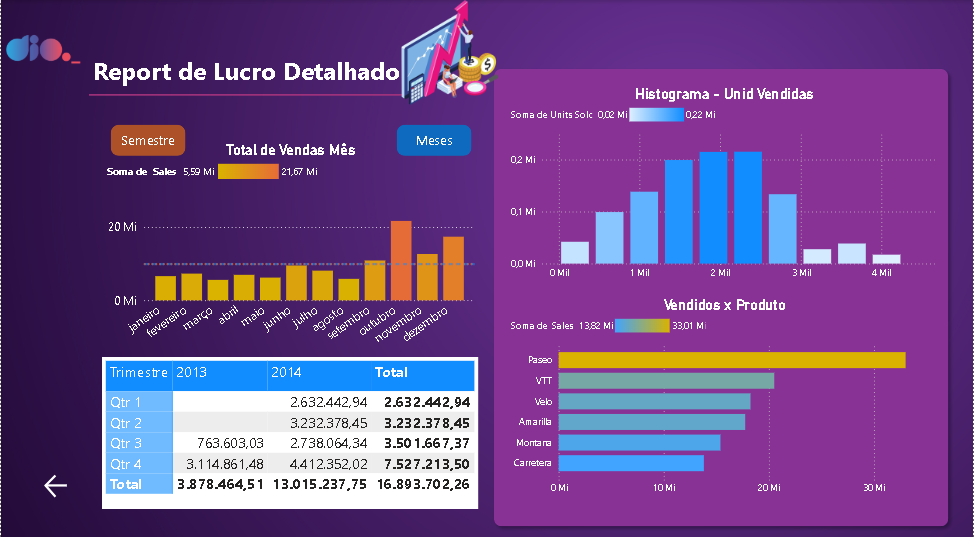

This screenshot's page, from the dashboard's own definition file:
{"tool":"powerbi","page":{"name":"Detalhes","canvas":[1280,720],"ordinal":2},"visuals":[{"type":"image","box":[0,0,1280,720.2],"z":0},{"type":"image","box":[6,2,98,124],"z":1000},{"type":"actionButton","title":"Botão - Map","box":[134.3,154.3,118.6,51.4],"z":2000},{"type":"textbox","box":[116,64,468,62],"z":3000},{"type":"shape","box":[640,82,616,620],"z":4000},{"type":"shape","box":[116,112,444,26],"z":5000},{"type":"clusteredColumnChart","title":"Histograma - Unid Vendidas","fields":{"Y":["Sum(financials.Units Sold)"],"Category":["financials.Buckets"]},"box":[666,112,572,264],"z":6000},{"type":"clusteredBarChart","title":"Vendidos x Produto","fields":{"Y":["Sum(financials. Sales)"],"Category":["financials.Product"]},"box":[666,390,572,270],"z":7000},{"type":"clusteredColumnChart","title":"Total de Vendas Mês","fields":{"Category":["financials.Date.Variation.Hierarquia de datas.Mês"],"Y":["Sum(financials. Sales)"]},"box":[134,186,494,286],"z":9000},{"type":"actionButton","title":"Botão - Tre","box":[510,154.3,118.6,51.4],"z":10000},{"type":"pivotTable","fields":{"Rows":["financials.Date.Variation.Hierarquia de datas.Trimestre"],"Columns":["financials.Date.Variation.Hierarquia de datas.Ano"],"Values":["Sum(financials.Profit)"]},"box":[132.5,470,495,200],"z":11000},{"type":"image","box":[510,0,160,138],"z":12000},{"type":"actionButton","box":[32,598,48,40],"z":13000},{"type":"actionButton","box":[31.7,536.7,46.7,40],"z":14000},{"type":"image","box":[21.4,464.3,57.1,51.4],"z":15000},{"type":"actionButton","box":[21.4,457.1,57.1,61.4],"z":16000}]}

Visuals, with their boxes in screenshot pixels (x1, y1, x2, y2), scaled from the page's 1280x720 canvas onto the 974x537 screenshot:
image: locate(0, 0, 973, 536)
image: locate(5, 1, 79, 94)
"Botão - Map" actionButton: locate(102, 115, 192, 153)
textbox: locate(88, 48, 444, 94)
shape: locate(487, 61, 956, 524)
shape: locate(88, 84, 426, 103)
"Histograma - Unid Vendidas" clusteredColumnChart: locate(507, 84, 942, 280)
"Vendidos x Produto" clusteredBarChart: locate(507, 291, 942, 492)
"Total de Vendas Mês" clusteredColumnChart: locate(102, 139, 478, 352)
"Botão - Tre" actionButton: locate(388, 115, 478, 153)
pivotTable - financials.Date.Variation.Hierarquia de datas.Trimestre x financials.Date.Variation.Hierarquia de datas.Ano: locate(101, 351, 477, 500)
image: locate(388, 0, 510, 103)
actionButton: locate(24, 446, 61, 476)
actionButton: locate(24, 400, 60, 430)
image: locate(16, 346, 60, 385)
actionButton: locate(16, 341, 60, 387)
